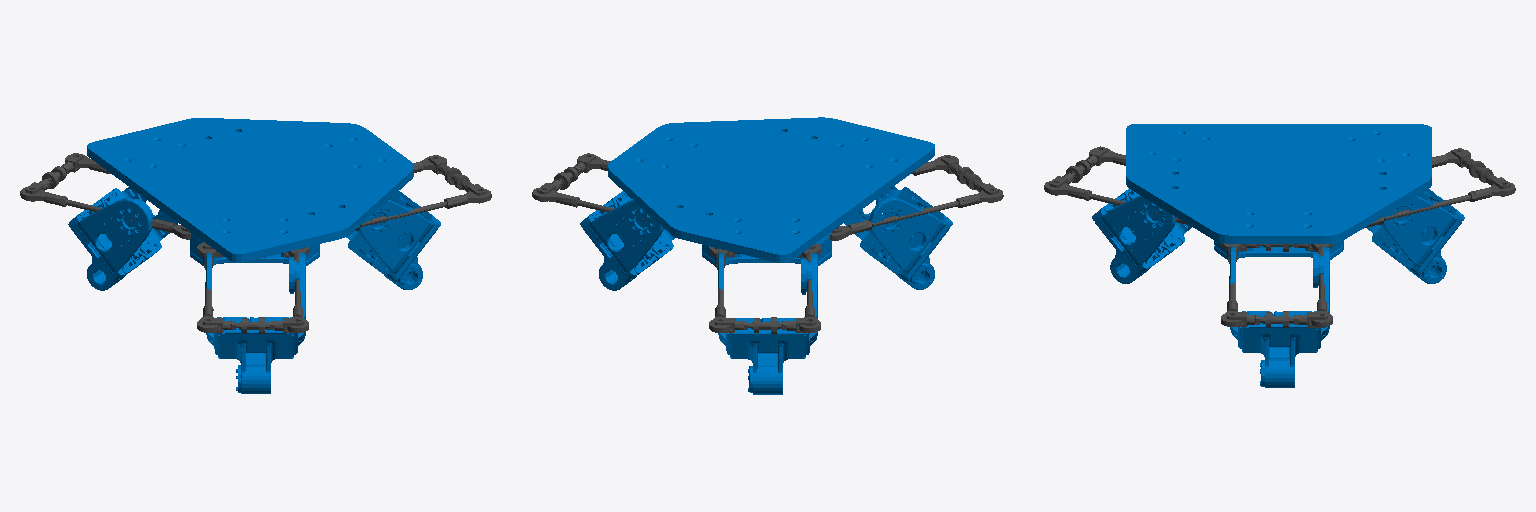
--- Facts derived from the render (not from the file) ---
3 views of the same robot in one strip: view 1: azimuth 30°, elevation 25°; view 2: azimuth 150°, elevation 25°; view 3: azimuth 270°, elevation 25° (orthographic).
Model qbdelta with 63 links and 62 joints (16 revolute, 12 continuous, 3 prismatic, 31 fixed), rooted at root_link, posed all joints at 0.
Visible links, largest first — view 1: delta_upper_plate_link, delta_qbmove_3_c_flange_axis_link, delta_qbmove_1_c_flange_axis_link, delta_qbmove_2_c_flange_axis_link, delta_qbmove_3_forearm_l_link, delta_qbmove_2_forearm_up_link, delta_qbmove_1_forearm_r_link, delta_gripper_plate_link, delta_qbmove_3_forearm_up_link, delta_qbmove_1_forearm_up_link, delta_qbmove_2_forearm_r_link, delta_qbmove_2_forearm_l_link; view 2: delta_upper_plate_link, delta_qbmove_2_c_flange_axis_link, delta_qbmove_1_c_flange_axis_link, delta_qbmove_3_c_flange_axis_link, delta_qbmove_2_forearm_r_link, delta_qbmove_3_forearm_up_link, delta_qbmove_1_forearm_up_link, delta_gripper_plate_link, delta_qbmove_2_forearm_up_link, delta_qbmove_1_forearm_l_link, delta_qbmove_3_forearm_l_link, delta_qbmove_3_forearm_r_link; view 3: delta_upper_plate_link, delta_qbmove_2_c_flange_axis_link, delta_qbmove_3_c_flange_axis_link, delta_qbmove_1_c_flange_axis_link, delta_qbmove_1_forearm_up_link, delta_qbmove_3_forearm_r_link, delta_gripper_plate_link, delta_qbmove_2_forearm_up_link, delta_qbmove_3_forearm_up_link, delta_qbmove_2_forearm_l_link, delta_qbmove_1_forearm_r_link, delta_qbmove_1_forearm_l_link.
Boxes of the visible links, x1,y1,x2,y2 form: delta_upper_plate_link: [87, 118, 413, 262]; delta_qbmove_3_c_flange_axis_link: [68, 187, 177, 290]; delta_qbmove_1_c_flange_axis_link: [346, 191, 440, 289]; delta_qbmove_2_c_flange_axis_link: [206, 253, 305, 393]; delta_qbmove_3_forearm_l_link: [20, 187, 191, 238]; delta_qbmove_2_forearm_up_link: [203, 317, 303, 333]; delta_qbmove_1_forearm_r_link: [355, 189, 491, 230]; delta_gripper_plate_link: [189, 231, 319, 265]; delta_qbmove_3_forearm_up_link: [25, 153, 83, 201]; delta_qbmove_1_forearm_up_link: [428, 155, 486, 203]; delta_qbmove_2_forearm_r_link: [197, 243, 218, 332]; delta_qbmove_2_forearm_l_link: [287, 247, 308, 332]; delta_upper_plate_link: [608, 117, 934, 262]; delta_qbmove_2_c_flange_axis_link: [844, 186, 952, 289]; delta_qbmove_1_c_flange_axis_link: [580, 191, 674, 290]; delta_qbmove_3_c_flange_axis_link: [718, 253, 817, 394]; delta_qbmove_2_forearm_r_link: [829, 189, 1003, 239]; delta_qbmove_3_forearm_up_link: [715, 317, 815, 333]; delta_qbmove_1_forearm_up_link: [537, 153, 595, 201]; delta_gripper_plate_link: [702, 233, 831, 265]; delta_qbmove_2_forearm_up_link: [941, 155, 998, 202]; delta_qbmove_1_forearm_l_link: [532, 188, 644, 220]; delta_qbmove_3_forearm_l_link: [799, 244, 820, 332]; delta_qbmove_3_forearm_r_link: [709, 246, 731, 332]; delta_upper_plate_link: [1126, 124, 1431, 243]; delta_qbmove_2_c_flange_axis_link: [1092, 189, 1191, 283]; delta_qbmove_3_c_flange_axis_link: [1367, 189, 1464, 283]; delta_qbmove_1_c_flange_axis_link: [1230, 247, 1329, 387]; delta_qbmove_1_forearm_up_link: [1227, 311, 1327, 327]; delta_qbmove_3_forearm_r_link: [1363, 182, 1515, 228]; delta_gripper_plate_link: [1214, 240, 1343, 259]; delta_qbmove_2_forearm_up_link: [1049, 146, 1107, 195]; delta_qbmove_3_forearm_up_link: [1452, 148, 1510, 196]; delta_qbmove_2_forearm_l_link: [1044, 181, 1187, 224]; delta_qbmove_1_forearm_r_link: [1221, 243, 1243, 326]; delta_qbmove_1_forearm_l_link: [1311, 244, 1332, 326].
Bounding box of the posed robot: 0.3574 × 0.4078 × 0.1378 m (x, y, z).
17 mesh visuals loaded from 10 distinct referenced files (5 binary STL); not drawn: 14 (reference not matched to a file when rendering).

URDF robot description (qbdelta):
<?xml version="1.0" ?>
<robot name="qbdelta" xmlns:xacro="http://www.ros.org/wiki/xacro">
  <material name="qbmove/flange">
    <color rgba="0.0 0.5 0.8 1.0"/>
  </material>
  <material name="qbmove/cube">
    <color rgba="0.35 0.35 0.35 1.0"/>
  </material>
  <material name="qbmove/shaft">
    <color rgba="0.8 0.8 0.8 1.0"/>
  </material>
  <material name="qbmove/default">
    <color rgba="0.35 0.35 0.35 1.0"/>
  </material>
  <link name="root_link"/>
  <joint name="delta_base_frame_joint" type="fixed">
    <origin rpy="0 3.14 3.14" xyz="0 0 0.45"/>
    <parent link="root_link"/>
    <child link="delta_base_frame_link"/>
  </joint>
  <link name="delta_base_frame_link"/>
  <joint name="delta_upper_plate_fixed_joint" type="fixed">
    <origin rpy="-1.57 3.14 -1.57" xyz="0 0 -0.048"/>
    <parent link="delta_base_frame_link"/>
    <child link="delta_upper_plate_link"/>
  </joint>
  <link name="delta_upper_plate_link">
    <inertial>
      <mass value="0.0"/>
      <origin xyz="0.0 0.0 0.0"/>
      <inertia ixx="0.0" ixy="0.0" ixz="0.0" iyy="0.0" iyz="0.0" izz="0.0"/>
    </inertial>
    <visual>
      <origin rpy="0 0 0" xyz="0 0 0"/>
      <geometry>
        <mesh filename="delta-meshes/qb_delta_upper_plate.stl" scale="0.001 0.001 0.001"/>
      </geometry>
      <material name="qbmove/flange"/>
    </visual>
  </link>
  <joint name="delta_qbmove_1_flat_flange_fixed_joint" type="fixed">
    <origin rpy="-1.57 3.14 0" xyz="0 0.015 0.1"/>
    <parent link="delta_upper_plate_link"/>
    <child link="delta_qbmove_1_flat_flange_link"/>
  </joint>
  <link name="delta_qbmove_1_flat_flange_link">
    <inertial>
      <mass value="0.0"/>
      <origin xyz="0.0 0.0 0.0"/>
      <inertia ixx="0.0" ixy="0.0" ixz="0.0" iyy="0.0" iyz="0.0" izz="0.0"/>
    </inertial>
    <visual>
      <origin rpy="0 0 0" xyz="0 0 0"/>
      <geometry>
        <mesh filename="delta-meshes/qb_flat_flange.stl" scale="0.001 0.001 0.001"/>
      </geometry>
      <material name="qbmove/flange"/>
    </visual>
  </link>
  <joint name="delta_qbmove_1_cube_fixed_joint" type="fixed">
    <origin rpy="1.57 0 -1.57" xyz="0.033 0 0.033"/>
    <parent link="delta_qbmove_1_flat_flange_link"/>
    <child link="delta_qbmove_1_cube_link"/>
  </joint>
  <link name="delta_qbmove_1_cube_link">
    <inertial>
      <mass value="0.6"/>
      <origin xyz="0.0 0.0 0.05"/>
      <inertia ixx="0.001" ixy="0.0" ixz="0.0" iyy="0.001" iyz="0.0" izz="0.001"/>
    </inertial>
    <visual>
      <origin rpy="0 0 0" xyz="0 0 0"/>
      <geometry>
        <mesh filename="delta-meshes/qbmove_frame.stl" scale="0.001 0.001 0.001"/>
      </geometry>
      <material name="qbmove/cube"/>
    </visual>
  </link>
  <joint name="delta_qbmove_1_motor_1_joint" type="revolute">
    <origin rpy="0 0 0" xyz="0.02 0.02 0.02"/>
    <parent link="delta_qbmove_1_cube_link"/>
    <child link="delta_qbmove_1_motor_1_link"/>
    <axis xyz="0 1 0"/>
    <dynamics damping="0.0" friction="0.0"/>
    <limit effort="100" lower="-2.876" upper="2.876" velocity="100"/>
  </joint>
  <link name="delta_qbmove_1_motor_1_link">
    <inertial>
      <mass value="0.05"/>
      <origin xyz="0.0 0.0 0.025"/>
      <inertia ixx="1.2e-05" ixy="0.0" ixz="0.0" iyy="1.2e-05" iyz="0.0" izz="3e-06"/>
    </inertial>
  </link>
  <joint name="delta_qbmove_1_motor_2_joint" type="revolute">
    <origin rpy="0 0 0" xyz="-0.02 -0.02 0.02"/>
    <parent link="delta_qbmove_1_cube_link"/>
    <child link="delta_qbmove_1_motor_2_link"/>
    <axis xyz="0 1 0"/>
    <dynamics damping="0.0" friction="0.0"/>
    <limit effort="100" lower="-2.876" upper="2.876" velocity="100"/>
  </joint>
  <link name="delta_qbmove_1_motor_2_link">
    <inertial>
      <mass value="0.05"/>
      <origin xyz="0.0 0.0 0.025"/>
      <inertia ixx="1.2e-05" ixy="0.0" ixz="0.0" iyy="1.2e-05" iyz="0.0" izz="3e-06"/>
    </inertial>
  </link>
  <joint name="delta_qbmove_1_shaft_joint" type="revolute">
    <origin rpy="1.57 0 0" xyz="0 0 0.056"/>
    <parent link="delta_qbmove_1_cube_link"/>
    <child link="delta_qbmove_1_shaft_link"/>
    <axis xyz="0 1 0"/>
    <dynamics damping="0.0" friction="0.0"/>
    <limit effort="100" lower="-2.876" upper="2.876" velocity="100"/>
  </joint>
  <link name="delta_qbmove_1_shaft_link">
    <inertial>
      <mass value="0.05"/>
      <origin xyz="0.0 0.0 0.005"/>
      <inertia ixx="1.2e-05" ixy="0.0" ixz="0.0" iyy="1.2e-05" iyz="0.0" izz="2.3e-05"/>
    </inertial>
    <visual>
      <origin rpy="0 0 0" xyz="0 0 0"/>
      <geometry>
        <mesh filename="delta-meshes/qbmove_pulley.stl" scale="0.001 0.001 0.001"/>
      </geometry>
      <material name="qbmove/shaft"/>
    </visual>
  </link>
  <joint name="delta_qbmove_1_stiffness_preset_virtual_joint" type="revolute">
    <origin rpy="0 0 0" xyz="0 0 0"/>
    <parent link="delta_qbmove_1_cube_link"/>
    <child link="delta_qbmove_1_stiffness_preset_virtual_link"/>
    <axis xyz="0 0 1"/>
    <dynamics damping="0.0" friction="0.0"/>
    <limit effort="100" lower="0.0" upper="1.0" velocity="100"/>
  </joint>
  <link name="delta_qbmove_1_stiffness_preset_virtual_link"/>
  <joint name="delta_qbmove_1_c_flange_axis_fixed_joint" type="fixed">
    <origin rpy="2.355 0 1.57" xyz="-0.0375 -0.024 -0.0375"/>
    <parent link="delta_qbmove_1_shaft_link"/>
    <child link="delta_qbmove_1_c_flange_axis_link"/>
  </joint>
  <link name="delta_qbmove_1_c_flange_axis_link">
    <inertial>
      <mass value="0.0"/>
      <origin xyz="0.0 0.0 0.0"/>
      <inertia ixx="0.0" ixy="0.0" ixz="0.0" iyy="0.0" iyz="0.0" izz="0.0"/>
    </inertial>
    <visual>
      <origin rpy="0 0 0" xyz="0 0 0"/>
      <geometry>
        <mesh filename="delta-meshes/qb_delta_c_flange.stl" scale="0.001 0.001 0.001"/>
      </geometry>
      <material name="qbmove/flange"/>
    </visual>
  </link>
  <joint name="delta_qbmove_1_upperarm_joint" type="fixed">
    <origin rpy="0 1.57 0" xyz="0 -0.035 0.02"/>
    <parent link="delta_qbmove_1_c_flange_axis_link"/>
    <child link="delta_qbmove_1_upperarm_link"/>
  </joint>
  <link name="delta_qbmove_1_upperarm_link"/>
  <joint name="delta_qbmove_3_flat_flange_fixed_joint" type="fixed">
    <origin rpy="-1.57 1.05 0" xyz="-0.0865 0.015 -0.05"/>
    <parent link="delta_upper_plate_link"/>
    <child link="delta_qbmove_3_flat_flange_link"/>
  </joint>
  <link name="delta_qbmove_3_flat_flange_link">
    <inertial>
      <mass value="0.0"/>
      <origin xyz="0.0 0.0 0.0"/>
      <inertia ixx="0.0" ixy="0.0" ixz="0.0" iyy="0.0" iyz="0.0" izz="0.0"/>
    </inertial>
    <visual>
      <origin rpy="0 0 0" xyz="0 0 0"/>
      <geometry>
        <mesh filename="delta-meshes/qb_flat_flange.stl" scale="0.001 0.001 0.001"/>
      </geometry>
      <material name="qbmove/flange"/>
    </visual>
  </link>
  <joint name="delta_qbmove_3_cube_fixed_joint" type="fixed">
    <origin rpy="1.57 0 -1.57" xyz="0.033 0 0.033"/>
    <parent link="delta_qbmove_3_flat_flange_link"/>
    <child link="delta_qbmove_3_cube_link"/>
  </joint>
  <link name="delta_qbmove_3_cube_link">
    <inertial>
      <mass value="0.6"/>
      <origin xyz="0.0 0.0 0.05"/>
      <inertia ixx="0.001" ixy="0.0" ixz="0.0" iyy="0.001" iyz="0.0" izz="0.001"/>
    </inertial>
    <visual>
      <origin rpy="0 0 0" xyz="0 0 0"/>
      <geometry>
        <mesh filename="delta-meshes/qbmove_frame.stl" scale="0.001 0.001 0.001"/>
      </geometry>
      <material name="qbmove/cube"/>
    </visual>
  </link>
  <joint name="delta_qbmove_3_motor_1_joint" type="revolute">
    <origin rpy="0 0 0" xyz="0.02 0.02 0.02"/>
    <parent link="delta_qbmove_3_cube_link"/>
    <child link="delta_qbmove_3_motor_1_link"/>
    <axis xyz="0 1 0"/>
    <dynamics damping="0.0" friction="0.0"/>
    <limit effort="100" lower="-2.876" upper="2.876" velocity="100"/>
  </joint>
  <link name="delta_qbmove_3_motor_1_link">
    <inertial>
      <mass value="0.05"/>
      <origin xyz="0.0 0.0 0.025"/>
      <inertia ixx="1.2e-05" ixy="0.0" ixz="0.0" iyy="1.2e-05" iyz="0.0" izz="3e-06"/>
    </inertial>
  </link>
  <joint name="delta_qbmove_3_motor_2_joint" type="revolute">
    <origin rpy="0 0 0" xyz="-0.02 -0.02 0.02"/>
    <parent link="delta_qbmove_3_cube_link"/>
    <child link="delta_qbmove_3_motor_2_link"/>
    <axis xyz="0 1 0"/>
    <dynamics damping="0.0" friction="0.0"/>
    <limit effort="100" lower="-2.876" upper="2.876" velocity="100"/>
  </joint>
  <link name="delta_qbmove_3_motor_2_link">
    <inertial>
      <mass value="0.05"/>
      <origin xyz="0.0 0.0 0.025"/>
      <inertia ixx="1.2e-05" ixy="0.0" ixz="0.0" iyy="1.2e-05" iyz="0.0" izz="3e-06"/>
    </inertial>
  </link>
  <joint name="delta_qbmove_3_shaft_joint" type="revolute">
    <origin rpy="1.57 0 0" xyz="0 0 0.056"/>
    <parent link="delta_qbmove_3_cube_link"/>
    <child link="delta_qbmove_3_shaft_link"/>
    <axis xyz="0 1 0"/>
    <dynamics damping="0.0" friction="0.0"/>
    <limit effort="100" lower="-2.876" upper="2.876" velocity="100"/>
  </joint>
  <link name="delta_qbmove_3_shaft_link">
    <inertial>
      <mass value="0.05"/>
      <origin xyz="0.0 0.0 0.005"/>
      <inertia ixx="1.2e-05" ixy="0.0" ixz="0.0" iyy="1.2e-05" iyz="0.0" izz="2.3e-05"/>
    </inertial>
    <visual>
      <origin rpy="0 0 0" xyz="0 0 0"/>
      <geometry>
        <mesh filename="delta-meshes/qbmove_pulley.stl" scale="0.001 0.001 0.001"/>
      </geometry>
      <material name="qbmove/shaft"/>
    </visual>
  </link>
  <joint name="delta_qbmove_3_stiffness_preset_virtual_joint" type="revolute">
    <origin rpy="0 0 0" xyz="0 0 0"/>
    <parent link="delta_qbmove_3_cube_link"/>
    <child link="delta_qbmove_3_stiffness_preset_virtual_link"/>
    <axis xyz="0 0 1"/>
    <dynamics damping="0.0" friction="0.0"/>
    <limit effort="100" lower="0.0" upper="1.0" velocity="100"/>
  </joint>
  <link name="delta_qbmove_3_stiffness_preset_virtual_link"/>
  <joint name="delta_qbmove_3_c_flange_axis_fixed_joint" type="fixed">
    <origin rpy="2.355 0 1.57" xyz="-0.0375 -0.024 -0.0375"/>
    <parent link="delta_qbmove_3_shaft_link"/>
    <child link="delta_qbmove_3_c_flange_axis_link"/>
  </joint>
  <link name="delta_qbmove_3_c_flange_axis_link">
    <inertial>
      <mass value="0.0"/>
      <origin xyz="0.0 0.0 0.0"/>
      <inertia ixx="0.0" ixy="0.0" ixz="0.0" iyy="0.0" iyz="0.0" izz="0.0"/>
    </inertial>
    <visual>
      <origin rpy="0 0 0" xyz="0 0 0"/>
      <geometry>
        <mesh filename="delta-meshes/qb_delta_c_flange.stl" scale="0.001 0.001 0.001"/>
      </geometry>
      <material name="qbmove/flange"/>
    </visual>
  </link>
  <joint name="delta_qbmove_3_upperarm_joint" type="fixed">
    <origin rpy="0 1.57 0" xyz="0 -0.035 0.02"/>
    <parent link="delta_qbmove_3_c_flange_axis_link"/>
    <child link="delta_qbmove_3_upperarm_link"/>
  </joint>
  <link name="delta_qbmove_3_upperarm_link"/>
  <joint name="delta_qbmove_2_flat_flange_fixed_joint" type="fixed">
    <origin rpy="-1.57 -1.05 0" xyz="0.0865 0.015 -0.05"/>
    <parent link="delta_upper_plate_link"/>
    <child link="delta_qbmove_2_flat_flange_link"/>
  </joint>
  <link name="delta_qbmove_2_flat_flange_link">
    <inertial>
      <mass value="0.0"/>
      <origin xyz="0.0 0.0 0.0"/>
      <inertia ixx="0.0" ixy="0.0" ixz="0.0" iyy="0.0" iyz="0.0" izz="0.0"/>
    </inertial>
    <visual>
      <origin rpy="0 0 0" xyz="0 0 0"/>
      <geometry>
        <mesh filename="delta-meshes/qb_flat_flange.stl" scale="0.001 0.001 0.001"/>
      </geometry>
      <material name="qbmove/flange"/>
    </visual>
  </link>
  <joint name="delta_qbmove_2_cube_fixed_joint" type="fixed">
    <origin rpy="1.57 0 -1.57" xyz="0.033 0 0.033"/>
    <parent link="delta_qbmove_2_flat_flange_link"/>
    <child link="delta_qbmove_2_cube_link"/>
  </joint>
  <link name="delta_qbmove_2_cube_link">
    <inertial>
      <mass value="0.6"/>
      <origin xyz="0.0 0.0 0.05"/>
      <inertia ixx="0.001" ixy="0.0" ixz="0.0" iyy="0.001" iyz="0.0" izz="0.001"/>
    </inertial>
    <visual>
      <origin rpy="0 0 0" xyz="0 0 0"/>
      <geometry>
        <mesh filename="delta-meshes/qbmove_frame.stl" scale="0.001 0.001 0.001"/>
      </geometry>
      <material name="qbmove/cube"/>
    </visual>
  </link>
  <joint name="delta_qbmove_2_motor_1_joint" type="revolute">
    <origin rpy="0 0 0" xyz="0.02 0.02 0.02"/>
    <parent link="delta_qbmove_2_cube_link"/>
    <child link="delta_qbmove_2_motor_1_link"/>
    <axis xyz="0 1 0"/>
    <dynamics damping="0.0" friction="0.0"/>
    <limit effort="100" lower="-2.876" upper="2.876" velocity="100"/>
  </joint>
  <link name="delta_qbmove_2_motor_1_link">
    <inertial>
      <mass value="0.05"/>
      <origin xyz="0.0 0.0 0.025"/>
      <inertia ixx="1.2e-05" ixy="0.0" ixz="0.0" iyy="1.2e-05" iyz="0.0" izz="3e-06"/>
    </inertial>
  </link>
  <joint name="delta_qbmove_2_motor_2_joint" type="revolute">
    <origin rpy="0 0 0" xyz="-0.02 -0.02 0.02"/>
    <parent link="delta_qbmove_2_cube_link"/>
    <child link="delta_qbmove_2_motor_2_link"/>
    <axis xyz="0 1 0"/>
    <dynamics damping="0.0" friction="0.0"/>
    <limit effort="100" lower="-2.876" upper="2.876" velocity="100"/>
  </joint>
  <link name="delta_qbmove_2_motor_2_link">
    <inertial>
      <mass value="0.05"/>
      <origin xyz="0.0 0.0 0.025"/>
      <inertia ixx="1.2e-05" ixy="0.0" ixz="0.0" iyy="1.2e-05" iyz="0.0" izz="3e-06"/>
    </inertial>
  </link>
  <joint name="delta_qbmove_2_shaft_joint" type="revolute">
    <origin rpy="1.57 0 0" xyz="0 0 0.056"/>
    <parent link="delta_qbmove_2_cube_link"/>
    <child link="delta_qbmove_2_shaft_link"/>
    <axis xyz="0 1 0"/>
    <dynamics damping="0.0" friction="0.0"/>
    <limit effort="100" lower="-2.876" upper="2.876" velocity="100"/>
  </joint>
  <link name="delta_qbmove_2_shaft_link">
    <inertial>
      <mass value="0.05"/>
      <origin xyz="0.0 0.0 0.005"/>
      <inertia ixx="1.2e-05" ixy="0.0" ixz="0.0" iyy="1.2e-05" iyz="0.0" izz="2.3e-05"/>
    </inertial>
    <visual>
      <origin rpy="0 0 0" xyz="0 0 0"/>
      <geometry>
        <mesh filename="delta-meshes/qbmove_pulley.stl" scale="0.001 0.001 0.001"/>
      </geometry>
      <material name="qbmove/shaft"/>
    </visual>
  </link>
  <joint name="delta_qbmove_2_stiffness_preset_virtual_joint" type="revolute">
    <origin rpy="0 0 0" xyz="0 0 0"/>
    <parent link="delta_qbmove_2_cube_link"/>
    <child link="delta_qbmove_2_stiffness_preset_virtual_link"/>
    <axis xyz="0 0 1"/>
    <dynamics damping="0.0" friction="0.0"/>
    <limit effort="100" lower="0.0" upper="1.0" velocity="100"/>
  </joint>
  <link name="delta_qbmove_2_stiffness_preset_virtual_link"/>
  <joint name="delta_qbmove_2_c_flange_axis_fixed_joint" type="fixed">
    <origin rpy="2.355 0 1.57" xyz="-0.0375 -0.024 -0.0375"/>
    <parent link="delta_qbmove_2_shaft_link"/>
    <child link="delta_qbmove_2_c_flange_axis_link"/>
  </joint>
  <link name="delta_qbmove_2_c_flange_axis_link">
    <inertial>
      <mass value="0.0"/>
      <origin xyz="0.0 0.0 0.0"/>
      <inertia ixx="0.0" ixy="0.0" ixz="0.0" iyy="0.0" iyz="0.0" izz="0.0"/>
    </inertial>
    <visual>
      <origin rpy="0 0 0" xyz="0 0 0"/>
      <geometry>
        <mesh filename="delta-meshes/qb_delta_c_flange.stl" scale="0.001 0.001 0.001"/>
      </geometry>
      <material name="qbmove/flange"/>
    </visual>
  </link>
  <joint name="delta_qbmove_2_upperarm_joint" type="fixed">
    <origin rpy="0 1.57 0" xyz="0 -0.035 0.02"/>
    <parent link="delta_qbmove_2_c_flange_axis_link"/>
    <child link="delta_qbmove_2_upperarm_link"/>
  </joint>
  <link name="delta_qbmove_2_upperarm_link"/>
  <joint name="delta_ee_fk_x_joint" type="prismatic">
    <origin rpy="0 0 0" xyz="0 0 0"/>
    <parent link="delta_base_frame_link"/>
    <child link="delta_ee_fk_1_link"/>
    <axis xyz="1 0 0"/>
    <dynamics damping="0.0" friction="0.0"/>
    <limit effort="100" lower="-0.25" upper="0.25" velocity="100"/>
  </joint>
  <link name="delta_ee_fk_1_link"/>
  <joint name="delta_ee_fk_y_joint" type="prismatic">
    <origin rpy="0 0 0" xyz="0 0 0"/>
    <parent link="delta_ee_fk_1_link"/>
    <child link="delta_ee_fk_2_link"/>
    <axis xyz="0 1 0"/>
    <dynamics damping="0.0" friction="0.0"/>
    <limit effort="100" lower="-0.25" upper="0.25" velocity="100"/>
  </joint>
  <link name="delta_ee_fk_2_link"/>
  <joint name="delta_ee_fk_z_joint" type="prismatic">
    <origin rpy="0 0 0" xyz="0 0 0"/>
    <parent link="delta_ee_fk_2_link"/>
    <child link="delta_ee_frame_link"/>
    <axis xyz="0 0 1"/>
    <dynamics damping="0.0" friction="0.0"/>
    <limit effort="100" lower="-0.25" upper="0.25" velocity="100"/>
  </joint>
  <link name="delta_ee_frame_link"/>
  <joint name="delta_qbmove_1_forearm_joint" type="fixed">
    <origin rpy="1.57 0 0" xyz="0.0455 0 0"/>
    <parent link="delta_ee_frame_link"/>
    <child link="delta_qbmove_1_forearm_link"/>
  </joint>
  <link name="delta_qbmove_1_forearm_link"/>
  <joint name="delta_qbmove_1_free_down_joint" type="continuous">
    <origin rpy="0 0 -1.57" xyz="0 0 -0.014"/>
    <parent link="delta_qbmove_1_forearm_link"/>
    <child link="delta_qbmove_1_free_down_link"/>
    <axis xyz="0 0 1"/>
  </joint>
  <link name="delta_qbmove_1_free_down_link">
    <visual>
      <origin rpy="0 0 0" xyz="0 0 0"/>
      <geometry>
        <mesh filename="delta-meshes/qb_delta_joint.stl" scale="0.001 0.001 0.001"/>
      </geometry>
      <material name="qbmove/default"/>
    </visual>
  </link>
  <joint name="delta_qbmove_1_free_l_joint" type="continuous">
    <origin rpy="0 1.57 0" xyz="0 0 0.0513"/>
    <parent link="delta_qbmove_1_free_down_link"/>
    <child link="delta_qbmove_1_free_l_link"/>
    <axis xyz="0 0 1"/>
  </joint>
  <link name="delta_qbmove_1_free_l_link">
  </link>
  <joint name="delta_qbmove_1_forearm_l_fixed_joint" type="fixed">
    <origin rpy="1.57 1.57 0" xyz="0 0 0"/>
    <parent link="delta_qbmove_1_free_l_link"/>
    <child link="delta_qbmove_1_forearm_l_link"/>
  </joint>
  <link name="delta_qbmove_1_forearm_l_link">
    <inertial>
      <mass value="0.0"/>
      <origin xyz="0.0 0.0 0.0"/>
      <inertia ixx="0.0" ixy="0.0" ixz="0.0" iyy="0.0" iyz="0.0" izz="0.0"/>
    </inertial>
    <visual>
      <origin rpy="0 0 0" xyz="0 0 0"/>
      <geometry>
        <mesh filename="delta-meshes/qb_delta_link.stl" scale="0.001 0.001 0.001"/>
      </geometry>
      <material name="qbmove/default"/>
    </visual>
  </link>
  <joint name="delta_qbmove_1_free_r_joint" type="continuous">
    <origin rpy="0 1.57 0" xyz="0 0 -0.0263"/>
    <parent link="delta_qbmove_1_free_down_link"/>
    <child link="delta_qbmove_1_free_r_link"/>
    <axis xyz="0 0 1"/>
    <mimic joint="delta_qbmove_1_free_l_joint" multiplier="1"/>
  </joint>
  <link name="delta_qbmove_1_free_r_link">
  </link>
  <joint name="delta_qbmove_1_forearm_r_fixed_joint" type="fixed">
    <origin rpy="1.57 1.57 0" xyz="0 0 0"/>
    <parent link="delta_qbmove_1_free_r_link"/>
    <child link="delta_qbmove_1_forearm_r_link"/>
  </joint>
  <link name="delta_qbmove_1_forearm_r_link">
    <inertial>
      <mass value="0.0"/>
      <origin xyz="0.0 0.0 0.0"/>
      <inertia ixx="0.0" ixy="0.0" ixz="0.0" iyy="0.0" iyz="0.0" izz="0.0"/>
    </inertial>
    <visual>
      <origin rpy="0 0 0" xyz="0 0 0"/>
      <geometry>
        <mesh filename="delta-meshes/qb_delta_link.stl" scale="0.001 0.001 0.001"/>
      </geometry>
      <material name="qbmove/default"/>
    </visual>
  </link>
  <joint name="delta_qbmove_1_free_up_joint" type="continuous">
    <origin rpy="0 1.57 0" xyz="0 0 -0.156"/>
    <parent link="delta_qbmove_1_forearm_l_link"/>
    <child link="delta_qbmove_1_free_up_link"/>
    <axis xyz="0 0 1"/>
    <mimic joint="delta_qbmove_1_free_l_joint" multiplier="1"/>
  </joint>
  <link name="delta_qbmove_1_free_up_link">
  </link>
  <joint name="delta_qbmove_1_forearm_up_fixed_joint" type="fixed">
    <origin rpy="0 -1.57 1.57" xyz="0 0.0513 0"/>
    <parent link="delta_qbmove_1_free_up_link"/>
    <child link="delta_qbmove_1_forearm_up_link"/>
  </joint>
  <link name="delta_qbmove_1_forearm_up_link">
    <inertial>
      <mass value="0.0"/>
      <origin xyz="0.0 0.0 0.0"/>
      <inertia ixx="0.0" ixy="0.0" ixz="0.0" iyy="0.0" iyz="0.0" izz="0.0"/>
    </inertial>
    <visual>
      <origin rpy="0 0 0" xyz="0 0 0"/>
      <geometry>
        <mesh filename="delta-meshes/qb_delta_joint.stl" scale="0.001 0.001 0.001"/>
      </geometry>
      <material name="qbmove/default"/>
    </visual>
  </link>
  <joint name="delta_qbmove_3_forearm_joint" type="fixed">
    <origin rpy="1.57 0 -2.095" xyz="-0.0227 -0.0394 0"/>
    <parent link="delta_ee_frame_link"/>
    <child link="delta_qbmove_3_forearm_link"/>
  </joint>
  <link name="delta_qbmove_3_forearm_link"/>
  <joint name="delta_qbmove_3_free_down_joint" type="continuous">
    <origin rpy="0 0 -1.57" xyz="0 0 -0.014"/>
    <parent link="delta_qbmove_3_forearm_link"/>
    <child link="delta_qbmove_3_free_down_link"/>
    <axis xyz="0 0 1"/>
  </joint>
  <link name="delta_qbmove_3_free_down_link">
    <visual>
      <origin rpy="0 0 0" xyz="0 0 0"/>
      <geometry>
        <mesh filename="delta-meshes/qb_delta_joint.stl" scale="0.001 0.001 0.001"/>
      </geometry>
      <material name="qbmove/default"/>
    </visual>
  </link>
  <joint name="delta_qbmove_3_free_l_joint" type="continuous">
    <origin rpy="0 1.57 0" xyz="0 0 0.0513"/>
    <parent link="delta_qbmove_3_free_down_link"/>
    <child link="delta_qbmove_3_free_l_link"/>
    <axis xyz="0 0 1"/>
  </joint>
  <link name="delta_qbmove_3_free_l_link">
  </link>
  <joint name="delta_qbmove_3_forearm_l_fixed_joint" type="fixed">
    <origin rpy="1.57 1.57 0" xyz="0 0 0"/>
    <parent link="delta_qbmove_3_free_l_link"/>
    <child link="delta_qbmove_3_forearm_l_link"/>
  </joint>
  <link name="delta_qbmove_3_forearm_l_link">
    <inertial>
      <mass value="0.0"/>
      <origin xyz="0.0 0.0 0.0"/>
      <inertia ixx="0.0" ixy="0.0" ixz="0.0" iyy="0.0" iyz="0.0" izz="0.0"/>
    </inertial>
    <visual>
      <origin rpy="0 0 0" xyz="0 0 0"/>
      <geometry>
        <mesh filename="delta-meshes/qb_delta_link.stl" scale="0.001 0.001 0.001"/>
      </geometry>
      <material name="qbmove/default"/>
    </visual>
  </link>
  <joint name="delta_qbmove_3_free_r_joint" type="continuous">
    <origin rpy="0 1.57 0" xyz="0 0 -0.0263"/>
    <parent link="delta_qbmove_3_free_down_link"/>
    <child link="delta_qbmove_3_free_r_link"/>
    <axis xyz="0 0 1"/>
    <mimic joint="delta_qbmove_3_free_l_joint" multiplier="1"/>
  </joint>
  <link name="delta_qbmove_3_free_r_link">
  </link>
  <joint name="delta_qbmove_3_forearm_r_fixed_joint" type="fixed">
    <origin rpy="1.57 1.57 0" xyz="0 0 0"/>
    <parent link="delta_qbmove_3_free_r_link"/>
    <child link="delta_qbmove_3_forearm_r_link"/>
  </joint>
  <link name="delta_qbmove_3_forearm_r_link">
    <inertial>
      <mass value="0.0"/>
      <origin xyz="0.0 0.0 0.0"/>
      <inertia ixx="0.0" ixy="0.0" ixz="0.0" iyy="0.0" iyz="0.0" izz="0.0"/>
    </inertial>
    <visual>
      <origin rpy="0 0 0" xyz="0 0 0"/>
      <geometry>
        <mesh filename="delta-meshes/qb_delta_link.stl" scale="0.001 0.001 0.001"/>
      </geometry>
      <material name="qbmove/default"/>
    </visual>
  </link>
  <joint name="delta_qbmove_3_free_up_joint" type="continuous">
    <origin rpy="0 1.57 0" xyz="0 0 -0.156"/>
    <parent link="delta_qbmove_3_forearm_l_link"/>
    <child link="delta_qbmove_3_free_up_link"/>
    <axis xyz="0 0 1"/>
    <mimic joint="delta_qbmove_3_free_l_joint" multiplier="1"/>
  </joint>
  <link name="delta_qbmove_3_free_up_link">
  </link>
  <joint name="delta_qbmove_3_forearm_up_fixed_joint" type="fixed">
    <origin rpy="0 -1.57 1.57" xyz="0 0.0513 0"/>
    <parent link="delta_qbmove_3_free_up_link"/>
    <child link="delta_qbmove_3_forearm_up_link"/>
  </joint>
  <link name="delta_qbmove_3_forearm_up_link">
    <inertial>
      <mass value="0.0"/>
      <origin xyz="0.0 0.0 0.0"/>
      <inertia ixx="0.0" ixy="0.0" ixz="0.0" iyy="0.0" iyz="0.0" izz="0.0"/>
    </inertial>
    <visual>
      <origin rpy="0 0 0" xyz="0 0 0"/>
      <geometry>
        <mesh filename="delta-meshes/qb_delta_joint.stl" scale="0.001 0.001 0.001"/>
      </geometry>
      <material name="qbmove/default"/>
    </visual>
  </link>
  <joint name="delta_qbmove_2_forearm_joint" type="fixed">
    <origin rpy="1.57 0 2.095" xyz="-0.0227 0.0394 0"/>
    <parent link="delta_ee_frame_link"/>
    <child link="delta_qbmove_2_forearm_link"/>
  </joint>
  <link name="delta_qbmove_2_forearm_link"/>
  <joint name="delta_qbmove_2_free_down_joint" type="continuous">
    <origin rpy="0 0 -1.57" xyz="0 0 -0.014"/>
    <parent link="delta_qbmove_2_forearm_link"/>
    <child link="delta_qbmove_2_free_down_link"/>
    <axis xyz="0 0 1"/>
  </joint>
  <link name="delta_qbmove_2_free_down_link">
    <visual>
      <origin rpy="0 0 0" xyz="0 0 0"/>
      <geometry>
        <mesh filename="delta-meshes/qb_delta_joint.stl" scale="0.001 0.001 0.001"/>
      </geometry>
      <material name="qbmove/default"/>
    </visual>
  </link>
  <joint name="delta_qbmove_2_free_l_joint" type="continuous">
    <origin rpy="0 1.57 0" xyz="0 0 0.0513"/>
    <parent link="delta_qbmove_2_free_down_link"/>
    <child link="delta_qbmove_2_free_l_link"/>
    <axis xyz="0 0 1"/>
  </joint>
  <link name="delta_qbmove_2_free_l_link">
  </link>
  <joint name="delta_qbmove_2_forearm_l_fixed_joint" type="fixed">
    <origin rpy="1.57 1.57 0" xyz="0 0 0"/>
    <parent link="delta_qbmove_2_free_l_link"/>
    <child link="delta_qbmove_2_forearm_l_link"/>
  </joint>
  <link name="delta_qbmove_2_forearm_l_link">
    <inertial>
      <mass value="0.0"/>
      <origin xyz="0.0 0.0 0.0"/>
      <inertia ixx="0.0" ixy="0.0" ixz="0.0" iyy="0.0" iyz="0.0" izz="0.0"/>
    </inertial>
    <visual>
      <origin rpy="0 0 0" xyz="0 0 0"/>
      <geometry>
        <mesh filename="delta-meshes/qb_delta_link.stl" scale="0.001 0.001 0.001"/>
      </geometry>
      <material name="qbmove/default"/>
    </visual>
  </link>
  <joint name="delta_qbmove_2_free_r_joint" type="continuous">
    <origin rpy="0 1.57 0" xyz="0 0 -0.0263"/>
    <parent link="delta_qbmove_2_free_down_link"/>
    <child link="delta_qbmove_2_free_r_link"/>
    <axis xyz="0 0 1"/>
    <mimic joint="delta_qbmove_2_free_l_joint" multiplier="1"/>
  </joint>
  <link name="delta_qbmove_2_free_r_link">
  </link>
  <joint name="delta_qbmove_2_forearm_r_fixed_joint" type="fixed">
    <origin rpy="1.57 1.57 0" xyz="0 0 0"/>
    <parent link="delta_qbmove_2_free_r_link"/>
    <child link="delta_qbmove_2_forearm_r_link"/>
  </joint>
  <link name="delta_qbmove_2_forearm_r_link">
    <inertial>
      <mass value="0.0"/>
      <origin xyz="0.0 0.0 0.0"/>
      <inertia ixx="0.0" ixy="0.0" ixz="0.0" iyy="0.0" iyz="0.0" izz="0.0"/>
    </inertial>
    <visual>
      <origin rpy="0 0 0" xyz="0 0 0"/>
      <geometry>
        <mesh filename="delta-meshes/qb_delta_link.stl" scale="0.001 0.001 0.001"/>
      </geometry>
      <material name="qbmove/default"/>
    </visual>
  </link>
  <joint name="delta_qbmove_2_free_up_joint" type="continuous">
    <origin rpy="0 1.57 0" xyz="0 0 -0.156"/>
    <parent link="delta_qbmove_2_forearm_l_link"/>
    <child link="delta_qbmove_2_free_up_link"/>
    <axis xyz="0 0 1"/>
    <mimic joint="delta_qbmove_2_free_l_joint" multiplier="1"/>
  </joint>
  <link name="delta_qbmove_2_free_up_link">
  </link>
  <joint name="delta_qbmove_2_forearm_up_fixed_joint" type="fixed">
    <origin rpy="0 -1.57 1.57" xyz="0 0.0513 0"/>
    <parent link="delta_qbmove_2_free_up_link"/>
    <child link="delta_qbmove_2_forearm_up_link"/>
  </joint>
  <link name="delta_qbmove_2_forearm_up_link">
    <inertial>
      <mass value="0.0"/>
      <origin xyz="0.0 0.0 0.0"/>
      <inertia ixx="0.0" ixy="0.0" ixz="0.0" iyy="0.0" iyz="0.0" izz="0.0"/>
    </inertial>
    <visual>
      <origin rpy="0 0 0" xyz="0 0 0"/>
      <geometry>
        <mesh filename="delta-meshes/qb_delta_joint.stl" scale="0.001 0.001 0.001"/>
      </geometry>
      <material name="qbmove/default"/>
    </visual>
  </link>
  <joint name="delta_gripper_plate_fixed_joint" type="fixed">
    <origin rpy="1.57 0 -0.52" xyz="0 0 0.0198"/>
    <parent link="delta_ee_frame_link"/>
    <child link="delta_gripper_plate_link"/>
  </joint>
  <link name="delta_gripper_plate_link">
    <inertial>
      <mass value="0.0"/>
      <origin xyz="0.0 0.0 0.0"/>
      <inertia ixx="0.0" ixy="0.0" ixz="0.0" iyy="0.0" iyz="0.0" izz="0.0"/>
    </inertial>
    <visual>
      <origin rpy="0 0 0" xyz="0 0 0"/>
      <geometry>
        <mesh filename="delta-meshes/qb_delta_gripper_plate.stl" scale="0.001 0.001 0.001"/>
      </geometry>
      <material name="qbmove/flange"/>
    </visual>
  </link>
  <joint name="delta_qbmove_4_flat_flange_fixed_joint" type="fixed">
    <origin rpy="-1.57 -2.62 0" xyz="0 0.007 0"/>
    <parent link="delta_gripper_plate_link"/>
    <child link="delta_qbmove_4_flat_flange_link"/>
  </joint>
  <link name="delta_qbmove_4_flat_flange_link">
    <inertial>
      <mass value="0.0"/>
      <origin xyz="0.0 0.0 0.0"/>
      <inertia ixx="0.0" ixy="0.0" ixz="0.0" iyy="0.0" iyz="0.0" izz="0.0"/>
    </inertial>
    <visual>
      <origin rpy="0 0 0" xyz="0 0 0"/>
      <geometry>
        <mesh filename="delta-meshes/qb_flat_flange.stl" scale="0.001 0.001 0.001"/>
      </geometry>
      <material name="qbmove/flange"/>
    </visual>
  </link>
  <joint name="delta_qbmove_4_cube_fixed_joint" type="fixed">
    <origin rpy="0 -1.57 0" xyz="0.033 0 0.033"/>
    <parent link="delta_qbmove_4_flat_flange_link"/>
    <child link="delta_qbmove_4_cube_link"/>
  </joint>
  <link name="delta_qbmove_4_cube_link">
    <inertial>
      <mass value="0.6"/>
      <origin xyz="0.0 0.0 0.05"/>
      <inertia ixx="0.001" ixy="0.0" ixz="0.0" iyy="0.001" iyz="0.0" izz="0.001"/>
    </inertial>
    <visual>
      <origin rpy="0 0 0" xyz="0 0 0"/>
      <geometry>
        <mesh filename="delta-meshes/qbmove_frame.stl" scale="0.001 0.001 0.001"/>
      </geometry>
      <material name="qbmove/cube"/>
    </visual>
  </link>
  <joint name="delta_qbmove_4_motor_1_joint" type="revolute">
    <origin rpy="0 0 0" xyz="0.02 0.02 0.02"/>
    <parent link="delta_qbmove_4_cube_link"/>
    <child link="delta_qbmove_4_motor_1_link"/>
    <axis xyz="0 1 0"/>
    <dynamics damping="0.0" friction="0.0"/>
    <limit effort="100" lower="-2.876" upper="2.876" velocity="100"/>
  </joint>
  <link name="delta_qbmove_4_motor_1_link">
    <inertial>
      <mass value="0.05"/>
      <origin xyz="0.0 0.0 0.025"/>
      <inertia ixx="1.2e-05" ixy="0.0" ixz="0.0" iyy="1.2e-05" iyz="0.0" izz="3e-06"/>
    </inertial>
  </link>
  <joint name="delta_qbmove_4_motor_2_joint" type="revolute">
    <origin rpy="0 0 0" xyz="-0.02 -0.02 0.02"/>
    <parent link="delta_qbmove_4_cube_link"/>
    <child link="delta_qbmove_4_motor_2_link"/>
    <axis xyz="0 1 0"/>
    <dynamics damping="0.0" friction="0.0"/>
    <limit effort="100" lower="-2.876" upper="2.876" velocity="100"/>
  </joint>
  <link name="delta_qbmove_4_motor_2_link">
    <inertial>
      <mass value="0.05"/>
      <origin xyz="0.0 0.0 0.025"/>
      <inertia ixx="1.2e-05" ixy="0.0" ixz="0.0" iyy="1.2e-05" iyz="0.0" izz="3e-06"/>
    </inertial>
  </link>
  <joint name="delta_qbmove_4_shaft_joint" type="revolute">
    <origin rpy="1.57 0 0" xyz="0 0 0.056"/>
    <parent link="delta_qbmove_4_cube_link"/>
    <child link="delta_qbmove_4_shaft_link"/>
    <axis xyz="0 1 0"/>
    <dynamics damping="0.0" friction="0.0"/>
    <limit effort="100" lower="-2.876" upper="2.876" velocity="100"/>
  </joint>
  <link name="delta_qbmove_4_shaft_link">
    <inertial>
      <mass value="0.05"/>
      <origin xyz="0.0 0.0 0.005"/>
      <inertia ixx="1.2e-05" ixy="0.0" ixz="0.0" iyy="1.2e-05" iyz="0.0" izz="2.3e-05"/>
    </inertial>
    <visual>
      <origin rpy="0 0 0" xyz="0 0 0"/>
      <geometry>
        <mesh filename="delta-meshes/qbmove_pulley.stl" scale="0.001 0.001 0.001"/>
      </geometry>
      <material name="qbmove/shaft"/>
    </visual>
  </link>
  <joint name="delta_qbmove_4_stiffness_preset_virtual_joint" type="revolute">
    <origin rpy="0 0 0" xyz="0 0 0"/>
    <parent link="delta_qbmove_4_cube_link"/>
    <child link="delta_qbmove_4_stiffness_preset_virtual_link"/>
    <axis xyz="0 0 1"/>
    <dynamics damping="0.0" friction="0.0"/>
    <limit effort="100" lower="0.0" upper="1.0" velocity="100"/>
  </joint>
  <link name="delta_qbmove_4_stiffness_preset_virtual_link"/>
  <joint name="delta_qbmove_4_finger_up_fixed_joint" type="fixed">
    <origin rpy="-1.57 0 0" xyz="0 0.0165 0"/>
    <parent link="delta_qbmove_4_shaft_link"/>
    <child link="delta_qbmove_4_finger_up_link"/>
  </joint>
  <link name="delta_qbmove_4_finger_up_link">
    <inertial>
      <mass value="0.0"/>
      <origin xyz="0.0 0.0 0.0"/>
      <inertia ixx="0.0" ixy="0.0" ixz="0.0" iyy="0.0" iyz="0.0" izz="0.0"/>
    </inertial>
    <visual>
      <origin rpy="0 0 0" xyz="0 0 0"/>
      <geometry>
        <mesh filename="delta-meshes/qbmove_finger_up.stl" scale="0.001 0.001 0.001"/>
      </geometry>
      <material name="qbmove/flange"/>
    </visual>
  </link>
  <joint name="delta_qbmove_4_finger_down_fixed_joint" type="fixed">
    <origin rpy="0 1.57 1.57" xyz="0 -0.033 0.033"/>
    <parent link="delta_qbmove_4_cube_link"/>
    <child link="delta_qbmove_4_finger_down_link"/>
  </joint>
  <link name="delta_qbmove_4_finger_down_link">
    <inertial>
      <mass value="0.0"/>
      <origin xyz="0.0 0.0 0.0"/>
      <inertia ixx="0.0" ixy="0.0" ixz="0.0" iyy="0.0" iyz="0.0" izz="0.0"/>
    </inertial>
    <visual>
      <origin rpy="0 0 0" xyz="0 0 0"/>
      <geometry>
        <mesh filename="delta-meshes/qbmove_finger_down.stl" scale="0.001 0.001 0.001"/>
      </geometry>
      <material name="qbmove/flange"/>
    </visual>
  </link>
</robot>
